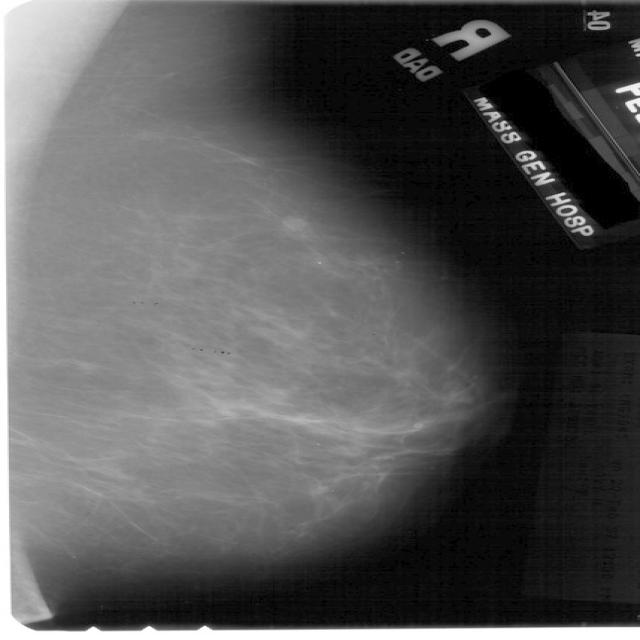tumour: (278, 212, 310, 236)
